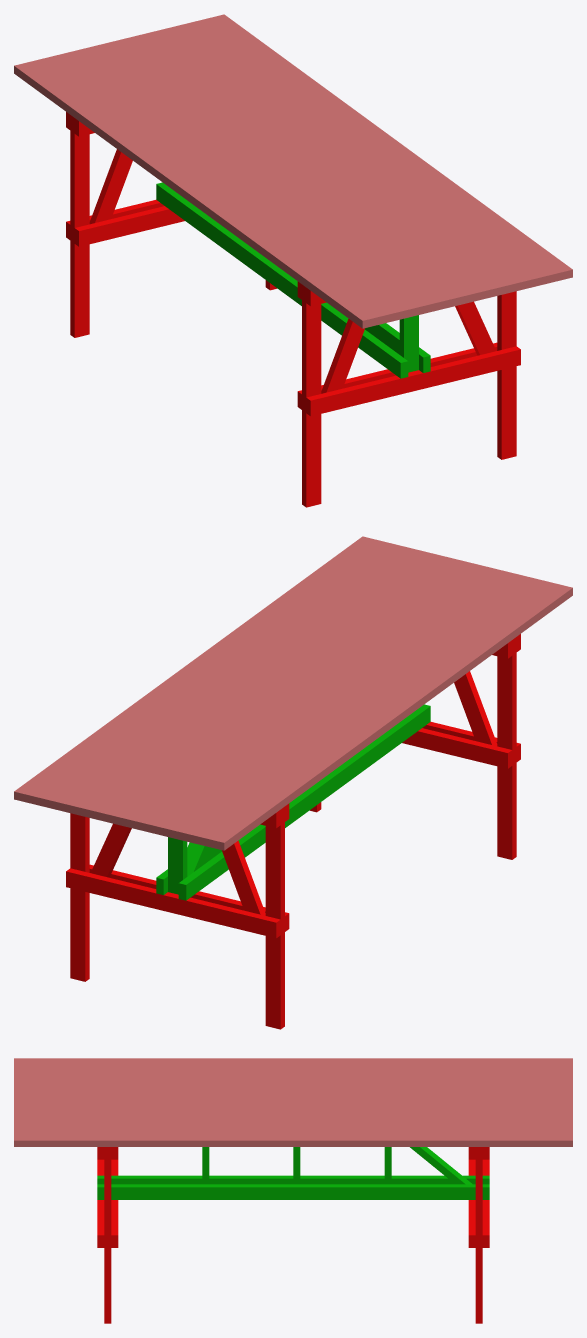
File: result.glb
3 renders of one model, top to bottom at view 1: azimuth 30°, elevation 25°; view 2: azimuth 150°, elevation 25°; view 3: azimuth 270°, elevation 25°, orthographic. The views are drawn at different scales.
Visible parts, largest first — view 1: 3f765c8a-8130-41ab-b662-19636164a3d6__Box, 7d0fba64-3658-4c4e-97a9-7c5ab5da4461__undefined, 9d02a6a8-7e50-4a44-bc12-d12df9772313__undefined, 832156d3-c060-4d4e-8cb2-02c71b6a9168__undefined, c1806806-a89b-435c-be08-764bce0fe4f9__undefined, 207a5871-cc1f-4852-933b-10caf6fbdf32__undefined, 6baceff4-0f20-4785-bd69-696aaa6957c4__undefined, f335678b-004e-44bf-b34f-91cf708e027a__undefined, 6d4a4e4e-921f-47c0-a5de-3a2afb5e7063__undefined, c49913a7-b31a-405a-bc5a-e8a4df2b8541__undefined, e4157061-b92b-4f48-903a-bd735b74996d__undefined, dfdc0a8e-0e85-4012-b37a-aa6bfc365d14__undefined (+14 smaller); view 2: 3f765c8a-8130-41ab-b662-19636164a3d6__Box, 7d0fba64-3658-4c4e-97a9-7c5ab5da4461__undefined, 9d02a6a8-7e50-4a44-bc12-d12df9772313__undefined, 832156d3-c060-4d4e-8cb2-02c71b6a9168__undefined, c1806806-a89b-435c-be08-764bce0fe4f9__undefined, 207a5871-cc1f-4852-933b-10caf6fbdf32__undefined, 6baceff4-0f20-4785-bd69-696aaa6957c4__undefined, f335678b-004e-44bf-b34f-91cf708e027a__undefined, 6d4a4e4e-921f-47c0-a5de-3a2afb5e7063__undefined, c49913a7-b31a-405a-bc5a-e8a4df2b8541__undefined, e4157061-b92b-4f48-903a-bd735b74996d__undefined, dfdc0a8e-0e85-4012-b37a-aa6bfc365d14__undefined (+13 smaller); view 3: e4157061-b92b-4f48-903a-bd735b74996d__undefined, 4d5d49c7-81bc-4541-b865-9bee194a9fd9__strutH, 3f765c8a-8130-41ab-b662-19636164a3d6__Box, 7d0fba64-3658-4c4e-97a9-7c5ab5da4461__undefined, 207a5871-cc1f-4852-933b-10caf6fbdf32__undefined, f335678b-004e-44bf-b34f-91cf708e027a__undefined, dfdc0a8e-0e85-4012-b37a-aa6bfc365d14__undefined, d97cc96d-c34b-45b4-8ab8-c8d00f7085e9__undefined, b98d63f9-f086-4525-bd34-c7eb59626568__strutH, 832156d3-c060-4d4e-8cb2-02c71b6a9168__undefined, 6baceff4-0f20-4785-bd69-696aaa6957c4__undefined, 9d02a6a8-7e50-4a44-bc12-d12df9772313__undefined (+11 smaller).
Part boxes in pixels (x1,y1,x2,y2): 3f765c8a-8130-41ab-b662-19636164a3d6__Box: (14,62,377,328); 7d0fba64-3658-4c4e-97a9-7c5ab5da4461__undefined: (29,58,392,324); 9d02a6a8-7e50-4a44-bc12-d12df9772313__undefined: (74,47,437,313); 832156d3-c060-4d4e-8cb2-02c71b6a9168__undefined: (44,55,407,321); c1806806-a89b-435c-be08-764bce0fe4f9__undefined: (89,44,452,310); 207a5871-cc1f-4852-933b-10caf6fbdf32__undefined: (104,40,467,306); 6baceff4-0f20-4785-bd69-696aaa6957c4__undefined: (59,51,422,317); f335678b-004e-44bf-b34f-91cf708e027a__undefined: (119,36,482,302); 6d4a4e4e-921f-47c0-a5de-3a2afb5e7063__undefined: (164,25,527,291); c49913a7-b31a-405a-bc5a-e8a4df2b8541__undefined: (194,18,557,284); e4157061-b92b-4f48-903a-bd735b74996d__undefined: (209,14,572,280); dfdc0a8e-0e85-4012-b37a-aa6bfc365d14__undefined: (134,33,497,299); 3f765c8a-8130-41ab-b662-19636164a3d6__Box: (209,584,572,850); 7d0fba64-3658-4c4e-97a9-7c5ab5da4461__undefined: (194,580,557,846); 9d02a6a8-7e50-4a44-bc12-d12df9772313__undefined: (149,569,512,835); 832156d3-c060-4d4e-8cb2-02c71b6a9168__undefined: (179,577,542,843); c1806806-a89b-435c-be08-764bce0fe4f9__undefined: (134,566,497,832); 207a5871-cc1f-4852-933b-10caf6fbdf32__undefined: (119,562,482,828); 6baceff4-0f20-4785-bd69-696aaa6957c4__undefined: (164,573,527,839); f335678b-004e-44bf-b34f-91cf708e027a__undefined: (104,558,467,824); 6d4a4e4e-921f-47c0-a5de-3a2afb5e7063__undefined: (59,547,422,813); c49913a7-b31a-405a-bc5a-e8a4df2b8541__undefined: (29,540,392,806); e4157061-b92b-4f48-903a-bd735b74996d__undefined: (14,536,377,802); dfdc0a8e-0e85-4012-b37a-aa6bfc365d14__undefined: (89,555,452,821); e4157061-b92b-4f48-903a-bd735b74996d__undefined: (14,1135,572,1146); 4d5d49c7-81bc-4541-b865-9bee194a9fd9__strutH: (97,1184,489,1199); 3f765c8a-8130-41ab-b662-19636164a3d6__Box: (14,1058,572,1064); 7d0fba64-3658-4c4e-97a9-7c5ab5da4461__undefined: (14,1064,572,1070); 207a5871-cc1f-4852-933b-10caf6fbdf32__undefined: (14,1093,572,1099); f335678b-004e-44bf-b34f-91cf708e027a__undefined: (14,1099,572,1105); dfdc0a8e-0e85-4012-b37a-aa6bfc365d14__undefined: (14,1105,572,1111); d97cc96d-c34b-45b4-8ab8-c8d00f7085e9__undefined: (14,1111,572,1117); b98d63f9-f086-4525-bd34-c7eb59626568__strutH: (97,1175,489,1184); 832156d3-c060-4d4e-8cb2-02c71b6a9168__undefined: (14,1070,572,1075); 6baceff4-0f20-4785-bd69-696aaa6957c4__undefined: (14,1076,572,1081); 9d02a6a8-7e50-4a44-bc12-d12df9772313__undefined: (14,1082,572,1087).
Bounding box in the file's own units: 700 × 725 × 2010.
